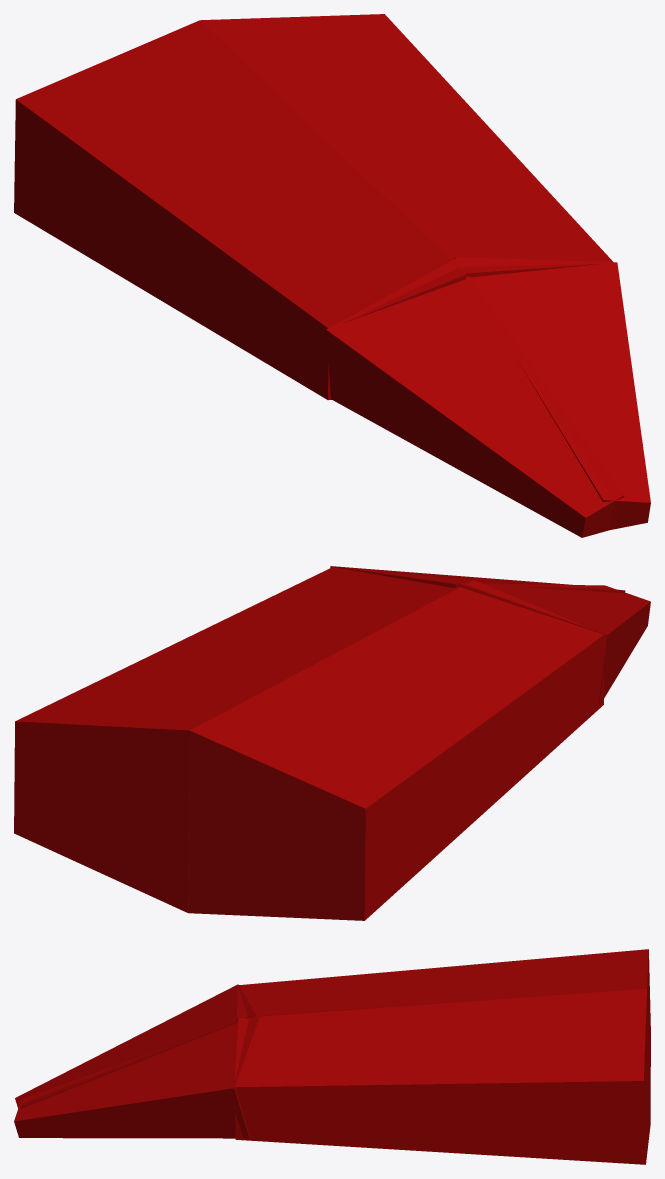
The model's file is SM_Prop_Whale_Skeleton_Skull_01_Collision.glb.
3 views of the same model, one above another, from view 1: azimuth 30°, elevation 25°; view 2: azimuth 150°, elevation 25°; view 3: azimuth 270°, elevation 25° (orthographic). The views are drawn at different scales.
Visible parts, largest first — view 1: SM_Prop_Whale_Skeleton_Skull_01_Collision; view 2: SM_Prop_Whale_Skeleton_Skull_01_Collision; view 3: SM_Prop_Whale_Skeleton_Skull_01_Collision.
Boxes of the visible parts, left/top/right/bottom form: SM_Prop_Whale_Skeleton_Skull_01_Collision: left=14, top=14, right=650, bottom=537; SM_Prop_Whale_Skeleton_Skull_01_Collision: left=14, top=566, right=650, bottom=920; SM_Prop_Whale_Skeleton_Skull_01_Collision: left=14, top=949, right=650, bottom=1164.
Size of the model in its own units: 3.51 by 1.82 by 7.22.
